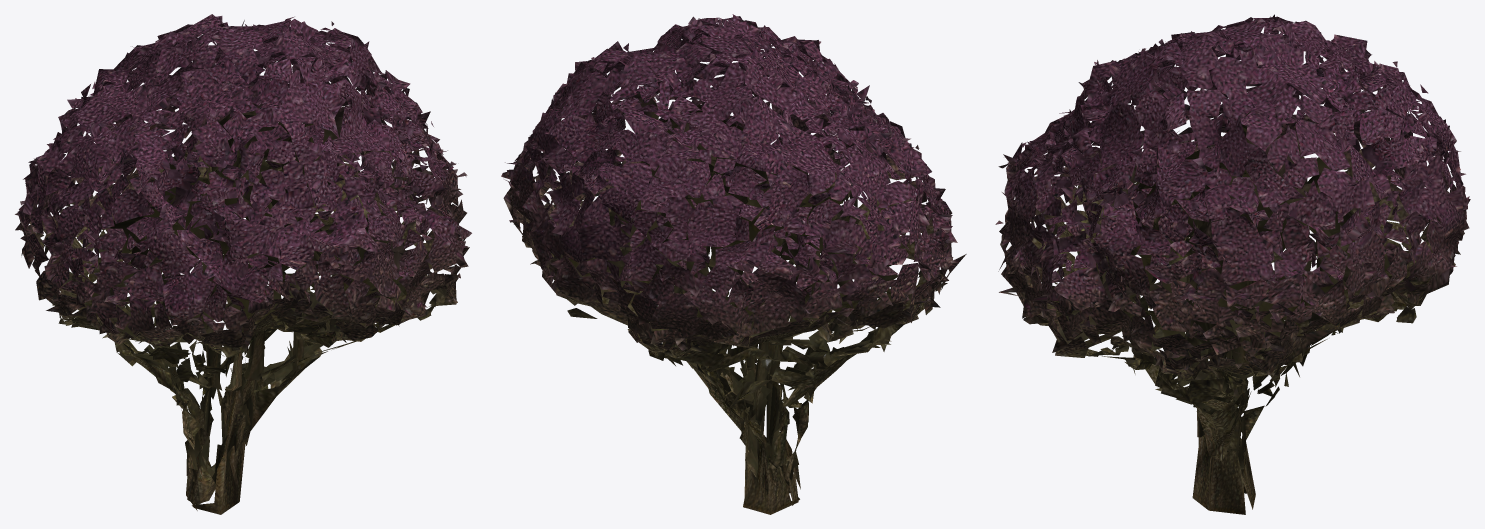
Rendered from planta.glb.
The picture shows the model from 3 angles, left to right: view 1: azimuth 30°, elevation 25°; view 2: azimuth 150°, elevation 25°; view 3: azimuth 270°, elevation 25°; orthographic projection. The views are drawn at different scales.
Visible parts, largest first — view 1: tripo_node_b6b704bb-d4da-444c-b563-52bd0be8d6ae; view 2: tripo_node_b6b704bb-d4da-444c-b563-52bd0be8d6ae; view 3: tripo_node_b6b704bb-d4da-444c-b563-52bd0be8d6ae.
Part boxes in pixels (bbox=[...]): tripo_node_b6b704bb-d4da-444c-b563-52bd0be8d6ae: bbox=[15, 14, 471, 514]; tripo_node_b6b704bb-d4da-444c-b563-52bd0be8d6ae: bbox=[501, 14, 966, 514]; tripo_node_b6b704bb-d4da-444c-b563-52bd0be8d6ae: bbox=[995, 14, 1470, 514].
Size of the model in its own units: 0.9291 by 1 by 0.8546.
Materials: 1 (1 with a texture image).
